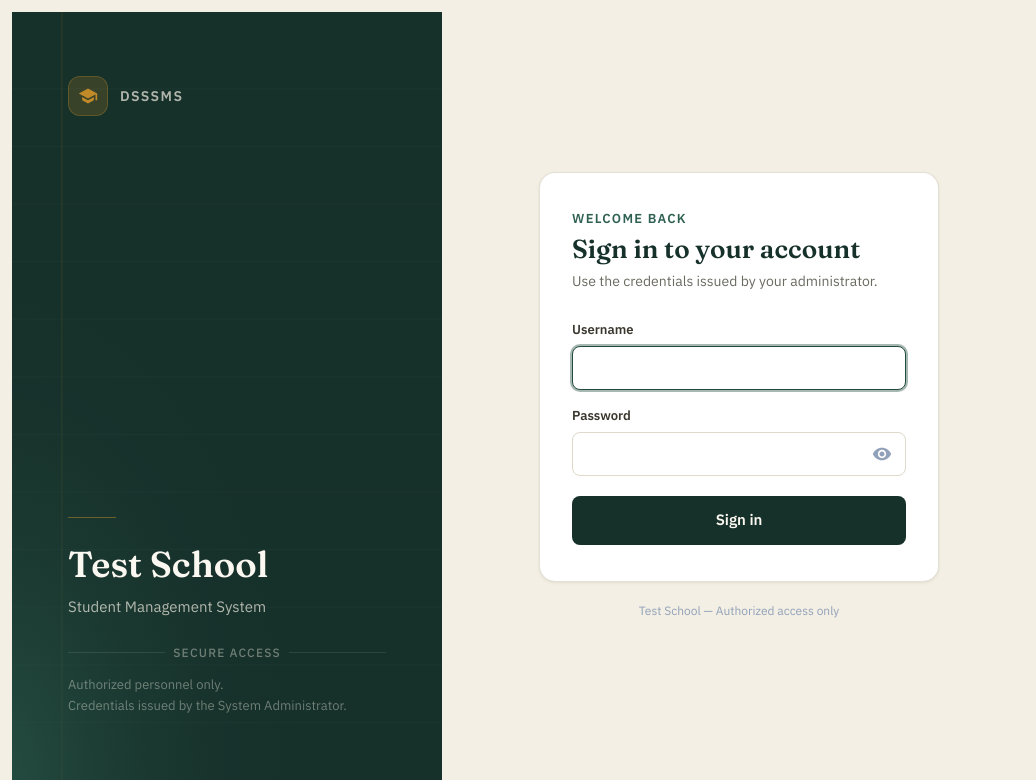
Scenario: C. LoginPage › shows validation error when submitting with empty password
The image size is (1036, 780).
Type "director" into the field labelled "Username".
click(739, 368); type("director")  # box [572,346,906,390]
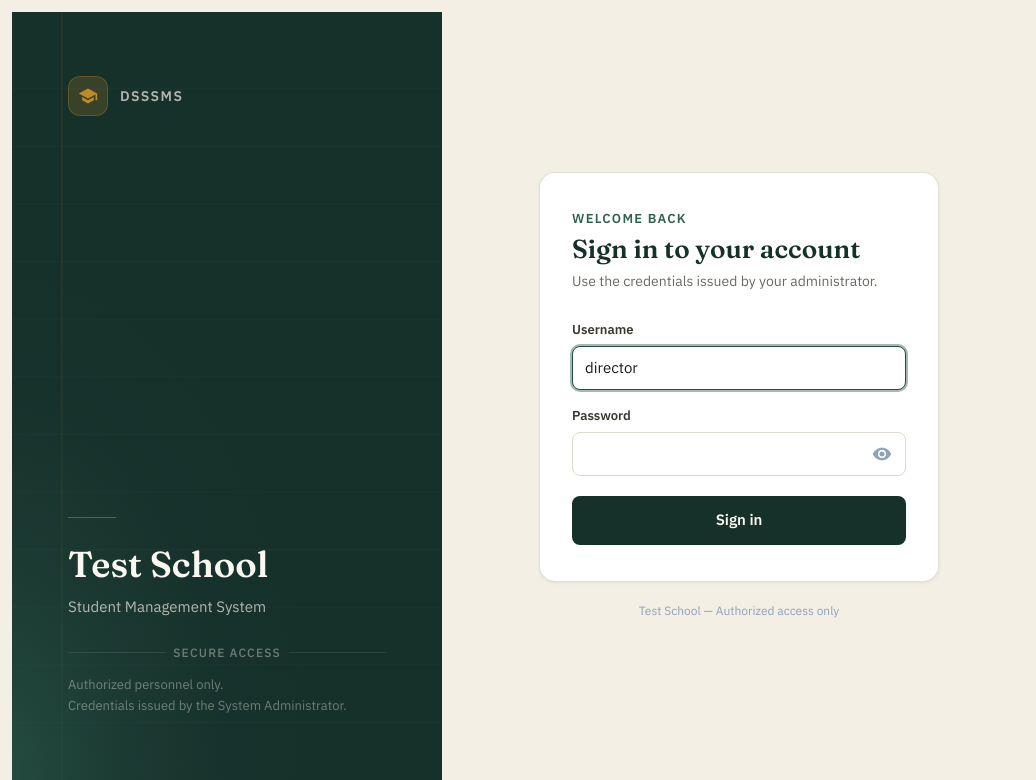
Click the button "Sign in".
click(739, 521)  # box [572,496,906,545]
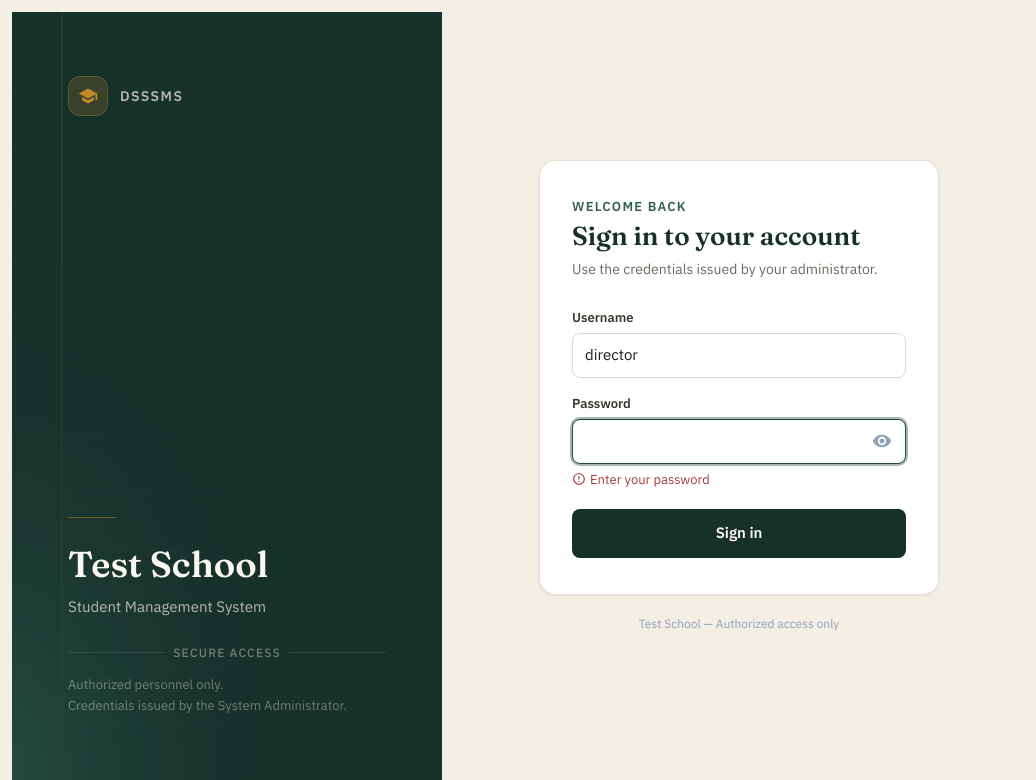
Now the text "Enter your password" is shown, box [572,470,710,488]
